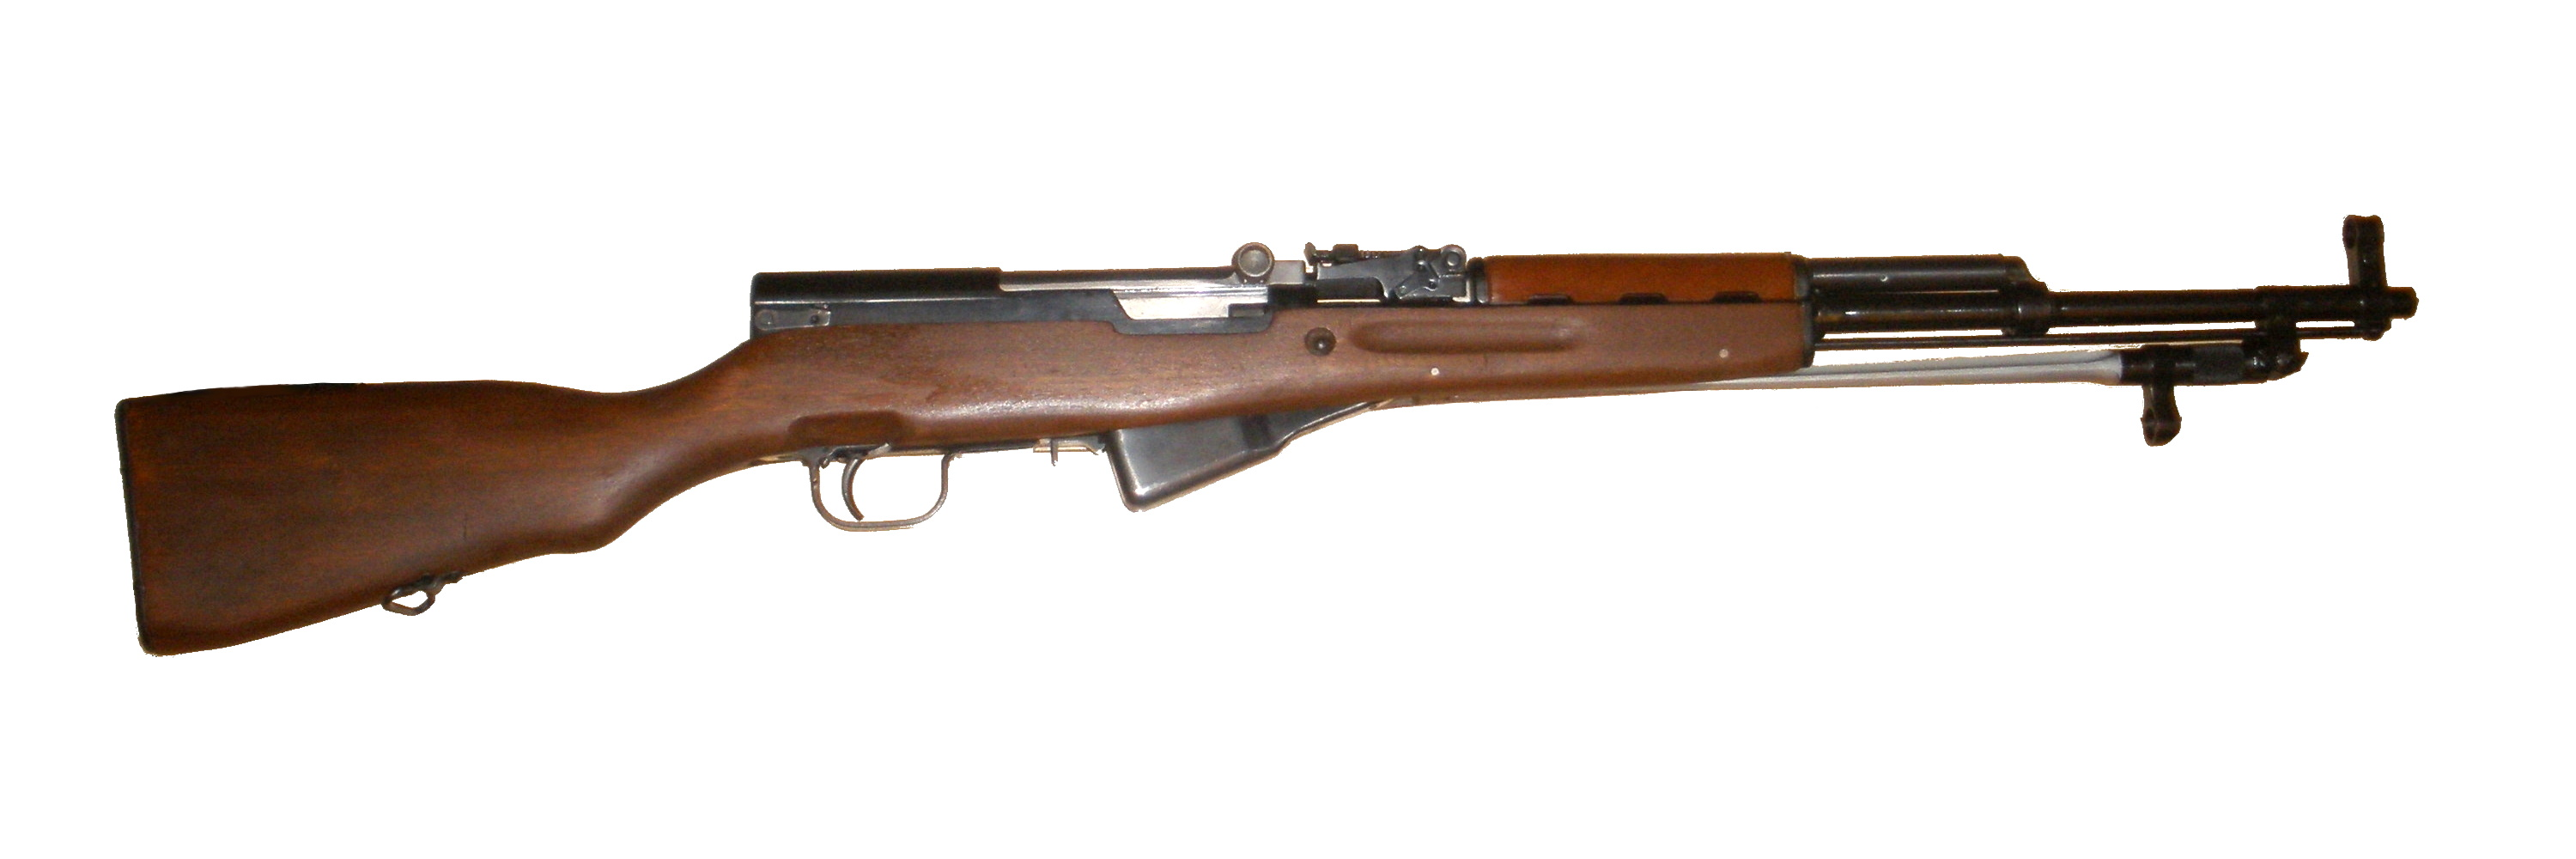Arma Real: (105, 214, 2445, 668)
